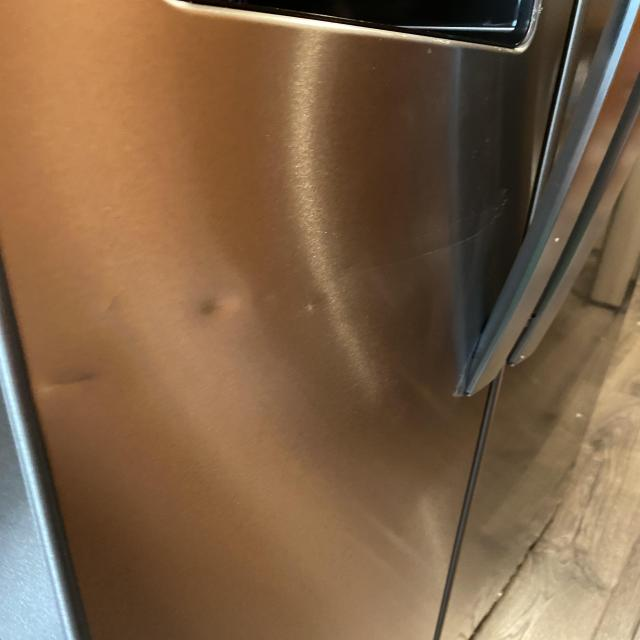dents: (22, 352, 122, 412), (196, 280, 256, 355)
